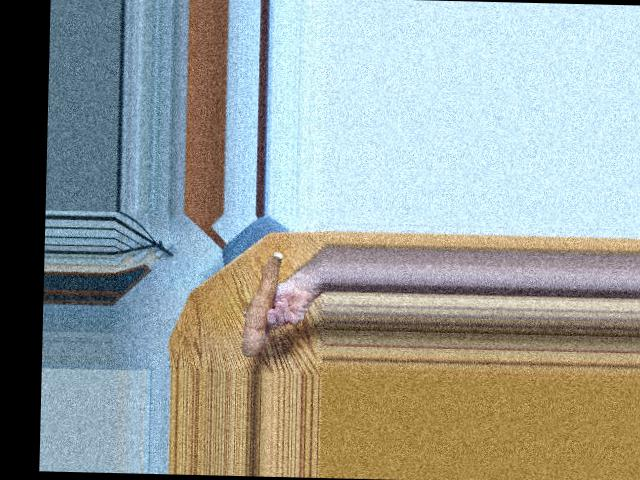sweet_potato: (236, 252, 289, 355)
